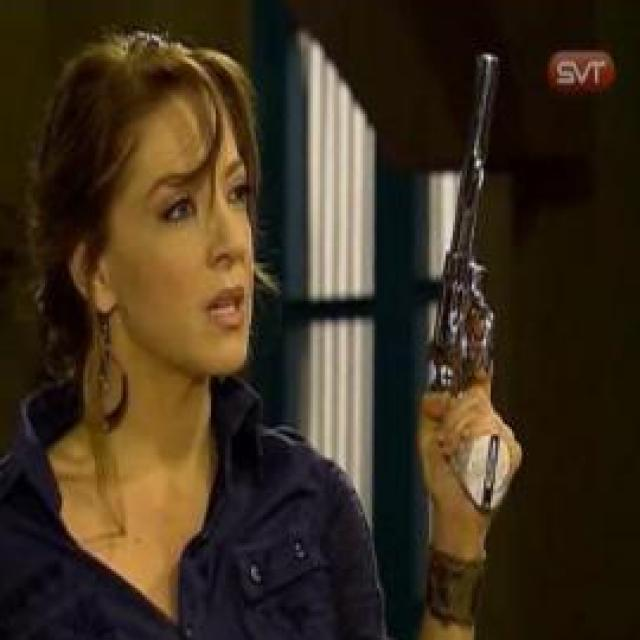pistol: (428, 50, 533, 511)
